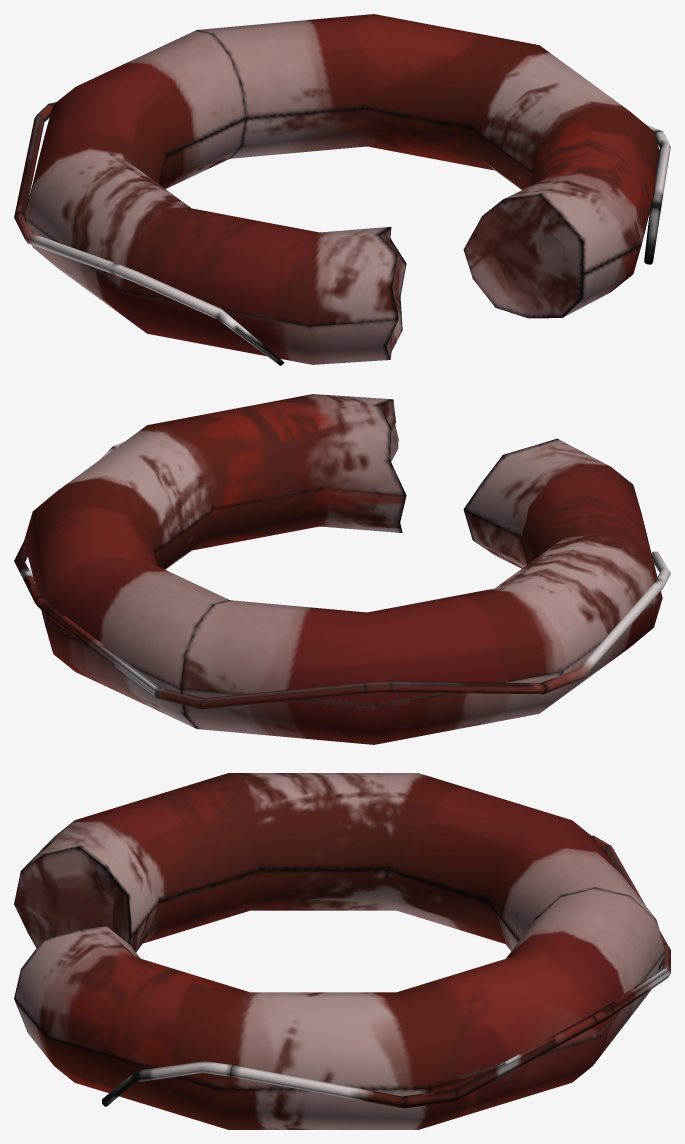
File: LifeBuoyBited_Asset.fbx
3 renders of one model, top to bottom at view 1: azimuth 30°, elevation 25°; view 2: azimuth 150°, elevation 25°; view 3: azimuth 270°, elevation 25°, orthographic. The views are drawn at different scales.
Parts seen in each view (by area): view 1: LifeBuoyBited; view 2: LifeBuoyBited; view 3: LifeBuoyBited.
Boxes of the visible parts, left/top/right/bottom form: LifeBuoyBited: left=14, top=14, right=670, bottom=365; LifeBuoyBited: left=14, top=394, right=670, bottom=744; LifeBuoyBited: left=14, top=773, right=670, bottom=1129.
Size of the model in its own units: 75.37 by 73.05 by 15.53.
1 material, 1 textured.
